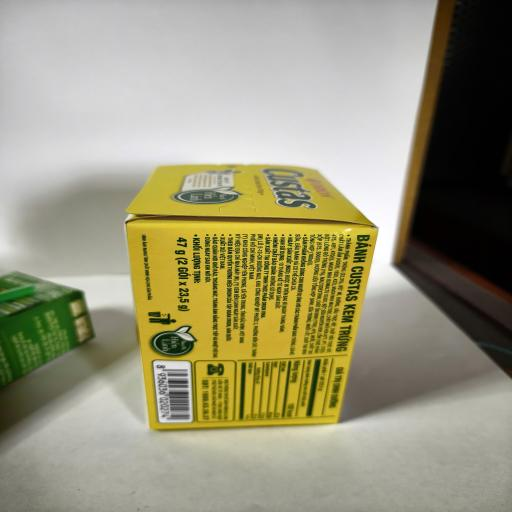custas: (125, 163, 379, 430)
milo: (0, 271, 95, 388)
